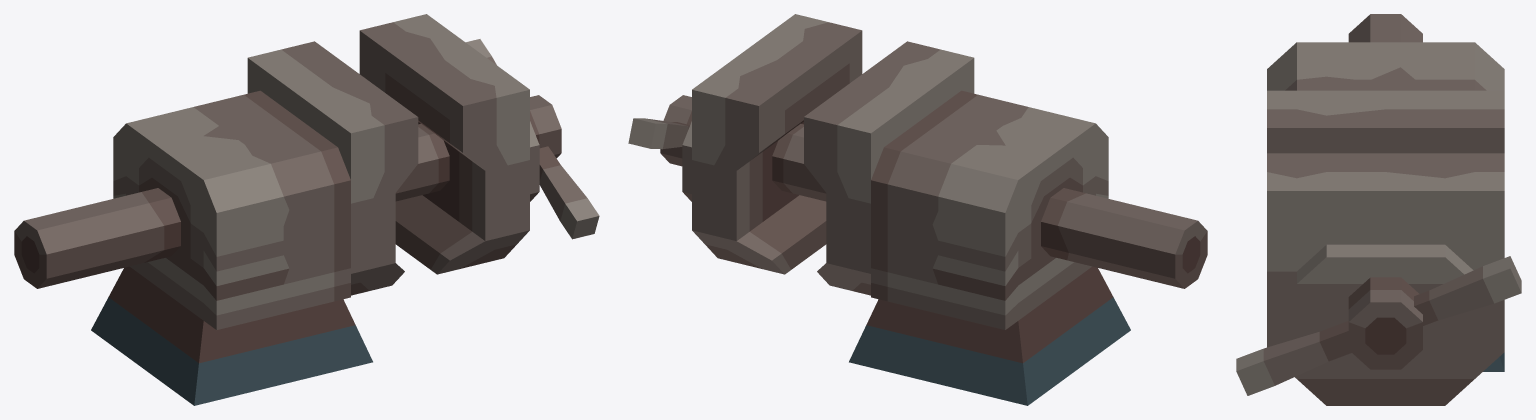
The model's file is benchVice.fbx.
3 renders of one model, left to right at view 1: azimuth 30°, elevation 25°; view 2: azimuth 150°, elevation 25°; view 3: azimuth 270°, elevation 25°, orthographic. The views are drawn at different scales.
Visible parts, largest first — view 1: benchVice, cylinder; view 2: benchVice, cylinder; view 3: benchVice, cylinder.
Part boxes in pixels (bbox=[...]): benchVice: bbox=[91, 14, 599, 405]; cylinder: bbox=[14, 95, 561, 288]; benchVice: bbox=[628, 14, 1130, 405]; cylinder: bbox=[660, 95, 1207, 288]; benchVice: bbox=[1236, 42, 1521, 405]; cylinder: bbox=[1348, 14, 1422, 369].
Bounding box in the file's own units: 144 × 62.5 × 60.13.
Materials: 1 (1 with a texture image).
